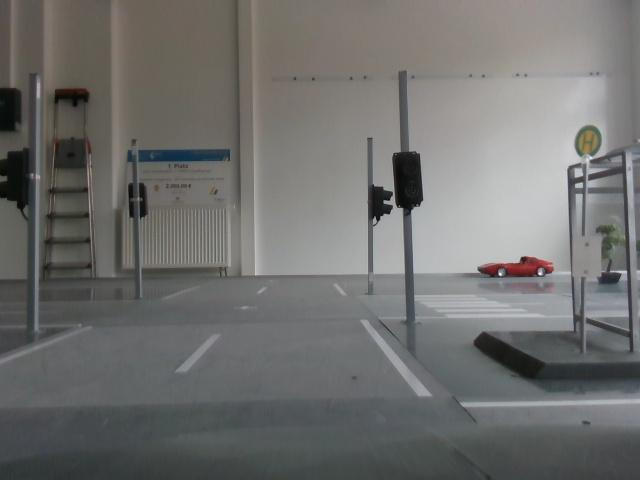car: (480, 251, 561, 288)
potted plant: (595, 217, 633, 290)
traffic light: (1, 139, 39, 224), (394, 148, 426, 219), (367, 174, 394, 232), (127, 182, 152, 223)
